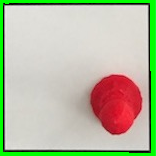Red Pawn: (85, 73, 148, 136)
